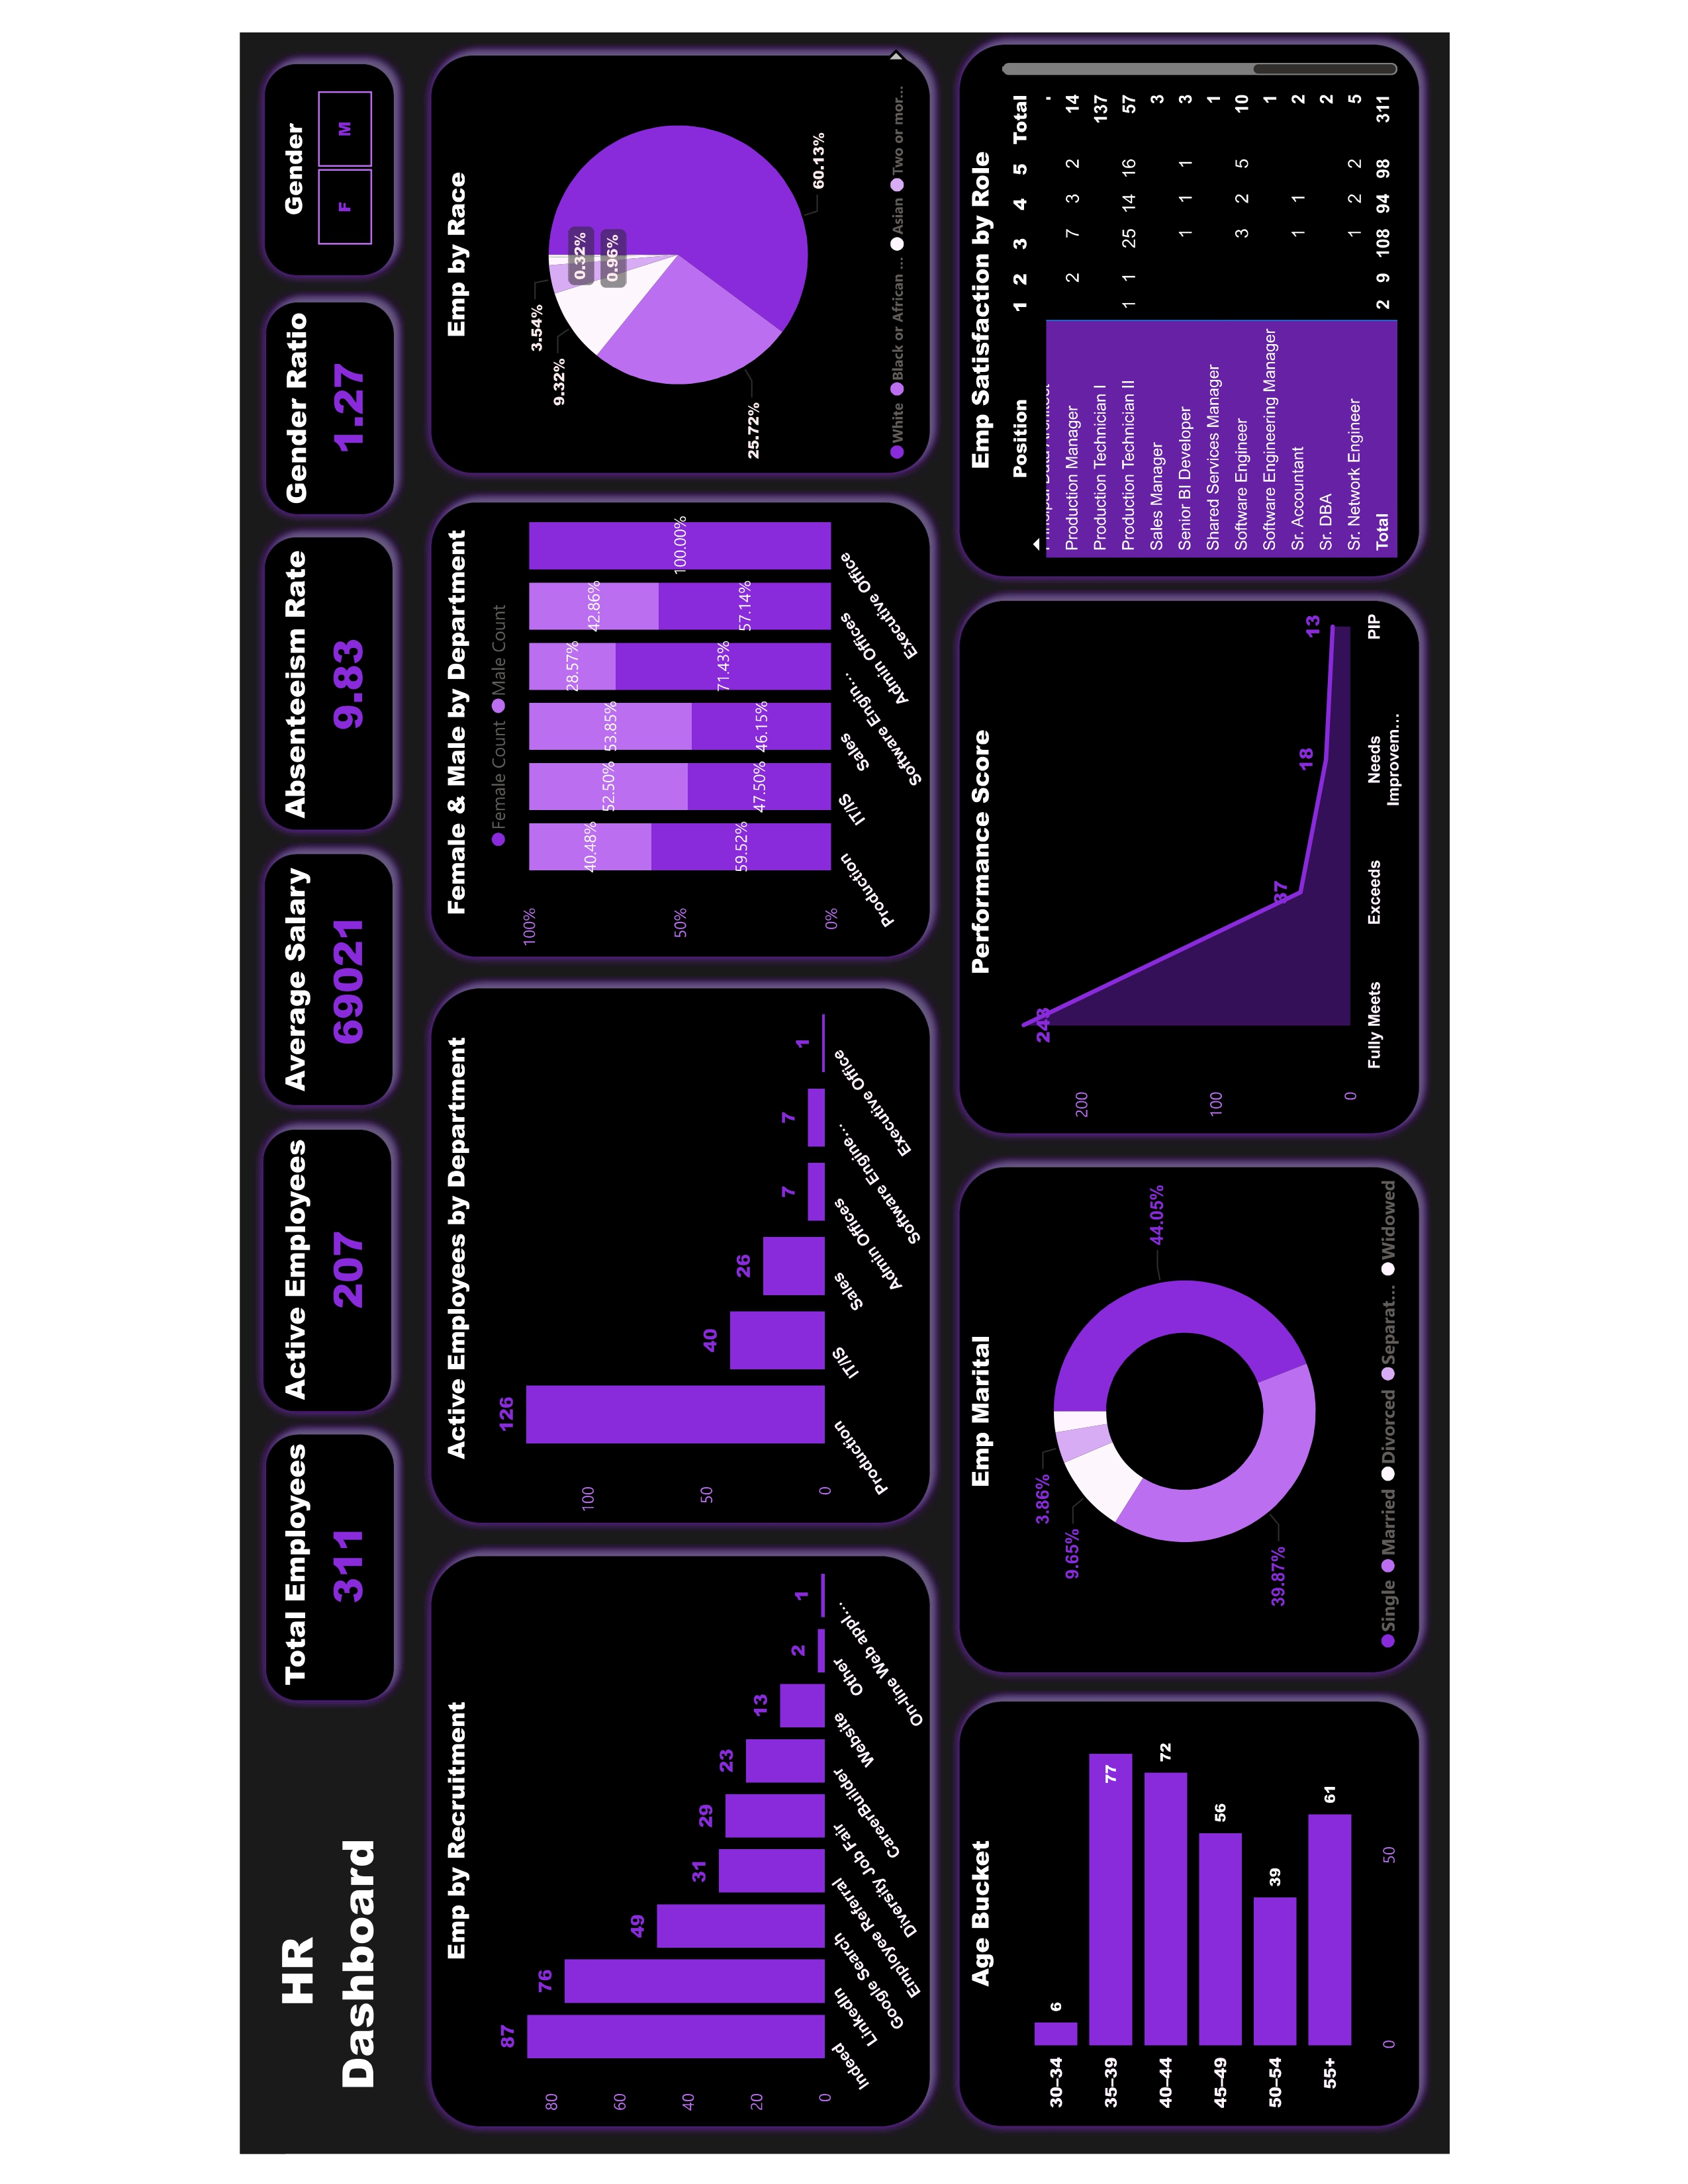

What the dashboard file says about the page in this screenshot:
{"tool":"powerbi","page":{"name":"Page 1","canvas":[1580,900],"ordinal":0},"visuals":[{"type":"shape","box":[772.2,8.8,204.4,113],"z":0},{"type":"card","title":"Average Salary","fields":{"Values":["Avg(HRDataset.Salary)"]},"box":[772.2,25.3,204.4,80],"z":1000},{"type":"shape","box":[329,9.3,215.6,113.3],"z":2000},{"type":"card","title":"Total Employees","fields":{"Values":["Count(HRDataset.Employee_Name)"]},"box":[331.1,26,215.6,80],"z":3000},{"type":"shape","box":[544.4,7.8,227.8,113.3],"z":4000},{"type":"card","title":"Active Employees","fields":{"Values":["HRDataset.Total Active Employees"]},"box":[519,26,278.9,80],"z":5000},{"type":"shape","box":[976.7,8.8,236.7,113],"z":6000},{"type":"card","title":"Absenteeism Rate","fields":{"Values":["HRDataset.Absenteeism Rate"]},"box":[986.8,25.3,215.6,80],"z":7000},{"type":"shape","box":[1212.2,9.3,175.6,113.3],"z":8000},{"type":"card","title":"Gender Ratio","fields":{"Values":["HRDataset.Gender Diversity Ratio"]},"box":[1212.3,26.6,175.6,78.9],"z":9000},{"type":"shape","box":[11,133.3,443.3,388.9],"z":10000},{"type":"columnChart","title":"Emp by Recruitment","fields":{"Category":["HRDataset.RecruitmentSource"],"Y":["CountNonNull(HRDataset.EmpID)"]},"box":[26.6,147.8,427.8,374.4],"z":11000},{"type":"shape","box":[461,133.3,415.6,388.9],"z":12000},{"type":"columnChart","title":" Active Employees by Department","fields":{"Category":["HRDataset.Department"],"Y":["HRDataset.Total Active Employees"]},"box":[472.1,147.8,404.4,374.4],"z":13000},{"type":"shape","box":[12.2,525.7,333.3,360],"z":14000},{"type":"columnChart","title":"Age Bucket","fields":{"Category":["HRDataset.Age Bucket"],"Y":["CountNonNull(HRDataset.EmpID)"]},"box":[35.6,537.9,310,335.6],"z":15000},{"type":"shape","box":[349.9,525.6,394.4,360],"z":16000},{"type":"donutChart","title":"Emp Marital","fields":{"Category":["HRDataset.MaritalDesc"],"Y":["CountNonNull(HRDataset.EmpID)"]},"box":[368.8,537.8,367.8,335.6],"z":17000},{"type":"shape","box":[883.2,133.3,355.6,388.9],"z":18000},{"type":"hundredPercentStackedColumnChart","title":"Female & Male by Department","fields":{"Category":["HRDataset.Department"],"Y":["HRDataset.Female Count","HRDataset.Male Count"]},"box":[893.2,147.8,345.6,374.4],"z":19000},{"type":"shape","box":[1243.3,133.3,328.9,388.9],"z":20000},{"type":"pieChart","title":"Emp by Race","fields":{"Category":["HRDataset.RaceDesc"],"Y":["CountNonNull(HRDataset.EmpID)"]},"box":[1256.7,147.8,315.6,358.9],"z":21000},{"type":"textbox","box":[11.1,14.4,260,100],"z":22000},{"type":"shape","box":[1165.6,525.7,414.4,360],"z":23000},{"type":"pivotTable","title":"Emp Satisfaction by Role","fields":{"Rows":["HRDataset.Position"],"Columns":["HRDataset.EmpSatisfaction"],"Values":["CountNonNull(HRDataset.EmpID)"]},"box":[1184.4,537.8,377.8,327.8],"z":24000},{"type":"shape","box":[751.1,525.6,414.4,360],"z":25000},{"type":"areaChart","title":"Performance Score","fields":{"Category":["HRDataset.PerformanceScore"],"Y":["CountNonNull(HRDataset.EmpID)"]},"box":[744.4,537.8,443.3,335.6],"z":26000},{"type":"shape","box":[1390.4,9.3,175.6,113.3],"z":27000},{"type":"slicer","title":"Gender","fields":{"Values":["HRDataset.Sex"]},"box":[1395.9,26.6,164.4,78.9],"z":28000}]}

Visuals, with their boxes on the page's 1580x900 design canvas (x1, y1, x2, y2). These are canvas units, not pixel positions in the 1688x2184 screenshot, which may show the page scaled, cropped or inside an application window:
shape: box(772, 9, 977, 122)
"Average Salary" card: box(772, 25, 977, 105)
shape: box(329, 9, 545, 123)
"Total Employees" card: box(331, 26, 547, 106)
shape: box(544, 8, 772, 121)
"Active Employees" card: box(519, 26, 798, 106)
shape: box(977, 9, 1213, 122)
"Absenteeism Rate" card: box(987, 25, 1202, 105)
shape: box(1212, 9, 1388, 123)
"Gender Ratio" card: box(1212, 27, 1388, 106)
shape: box(11, 133, 454, 522)
"Emp by Recruitment" columnChart: box(27, 148, 454, 522)
shape: box(461, 133, 877, 522)
" Active Employees by Department" columnChart: box(472, 148, 876, 522)
shape: box(12, 526, 346, 886)
"Age Bucket" columnChart: box(36, 538, 346, 874)
shape: box(350, 526, 744, 886)
"Emp Marital" donutChart: box(369, 538, 737, 873)
shape: box(883, 133, 1239, 522)
"Female & Male by Department" hundredPercentStackedColumnChart: box(893, 148, 1239, 522)
shape: box(1243, 133, 1572, 522)
"Emp by Race" pieChart: box(1257, 148, 1572, 507)
textbox: box(11, 14, 271, 114)
shape: box(1166, 526, 1580, 886)
"Emp Satisfaction by Role" pivotTable: box(1184, 538, 1562, 866)
shape: box(751, 526, 1166, 886)
"Performance Score" areaChart: box(744, 538, 1188, 873)
shape: box(1390, 9, 1566, 123)
"Gender" slicer: box(1396, 27, 1560, 106)
